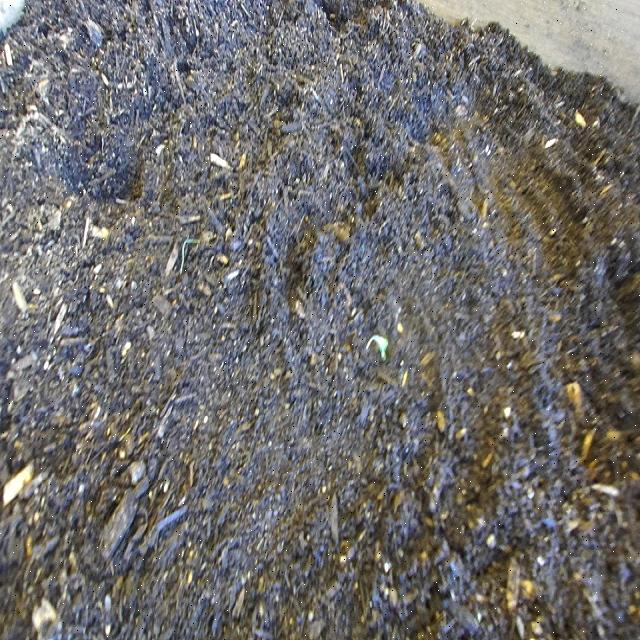Unhealthy: (363, 330, 394, 370)
